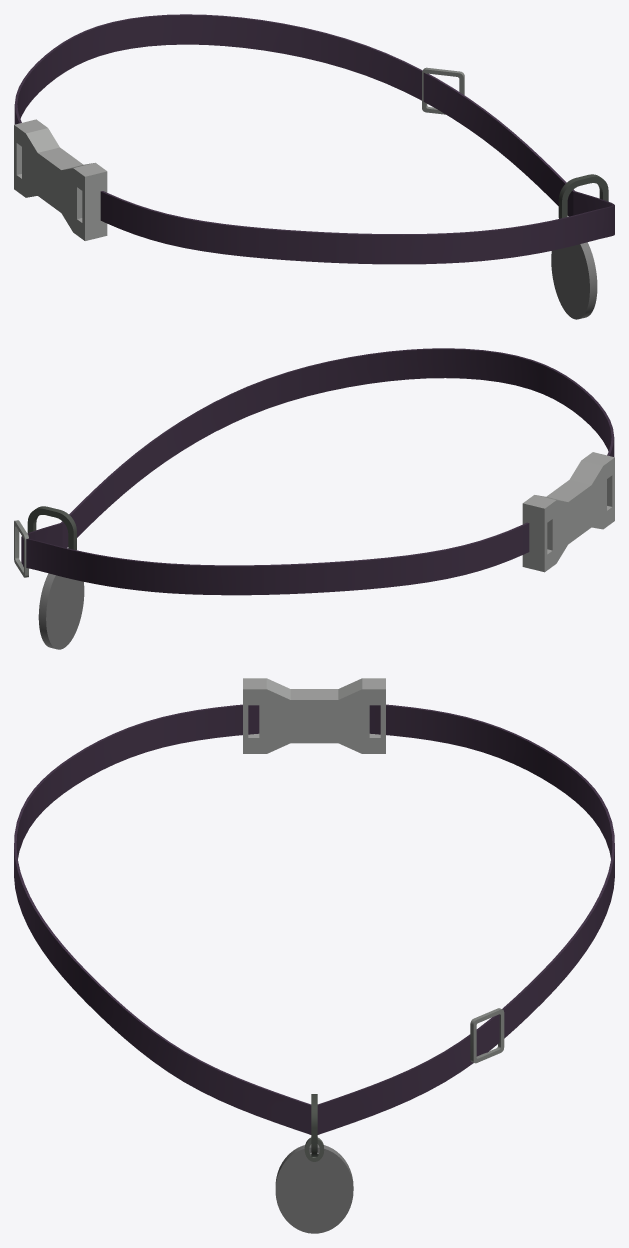
3 views of the same model, one above another, from view 1: azimuth 30°, elevation 25°; view 2: azimuth 150°, elevation 25°; view 3: azimuth 270°, elevation 25° (orthographic).
Parts seen in each view (by area): view 1: ribbon, ribbon.001, clasp, tag, loop, slider; view 2: ribbon.001, ribbon, clasp, tag, loop, slider; view 3: ribbon.001, ribbon, clasp, tag, slider.
Part boxes in pixels (box(x1,y1,x2,y2)): ribbon: box(14, 14, 574, 216); ribbon.001: box(100, 191, 614, 264); clasp: box(14, 119, 107, 240); tag: box(551, 242, 597, 319); loop: box(558, 174, 608, 218); slider: box(422, 67, 464, 114); ribbon.001: box(61, 348, 614, 547); ribbon: box(21, 522, 529, 595); clasp: box(522, 452, 614, 572); tag: box(38, 573, 84, 649); loop: box(27, 506, 76, 550); slider: box(14, 520, 28, 577); ribbon.001: box(14, 704, 311, 1134); ribbon: box(317, 704, 614, 1134); clasp: box(243, 678, 385, 753); tag: box(275, 1144, 353, 1233); slider: box(470, 1008, 504, 1063).
Bounding box in the file's own units: 0.299 × 0.1505 × 0.2772.
